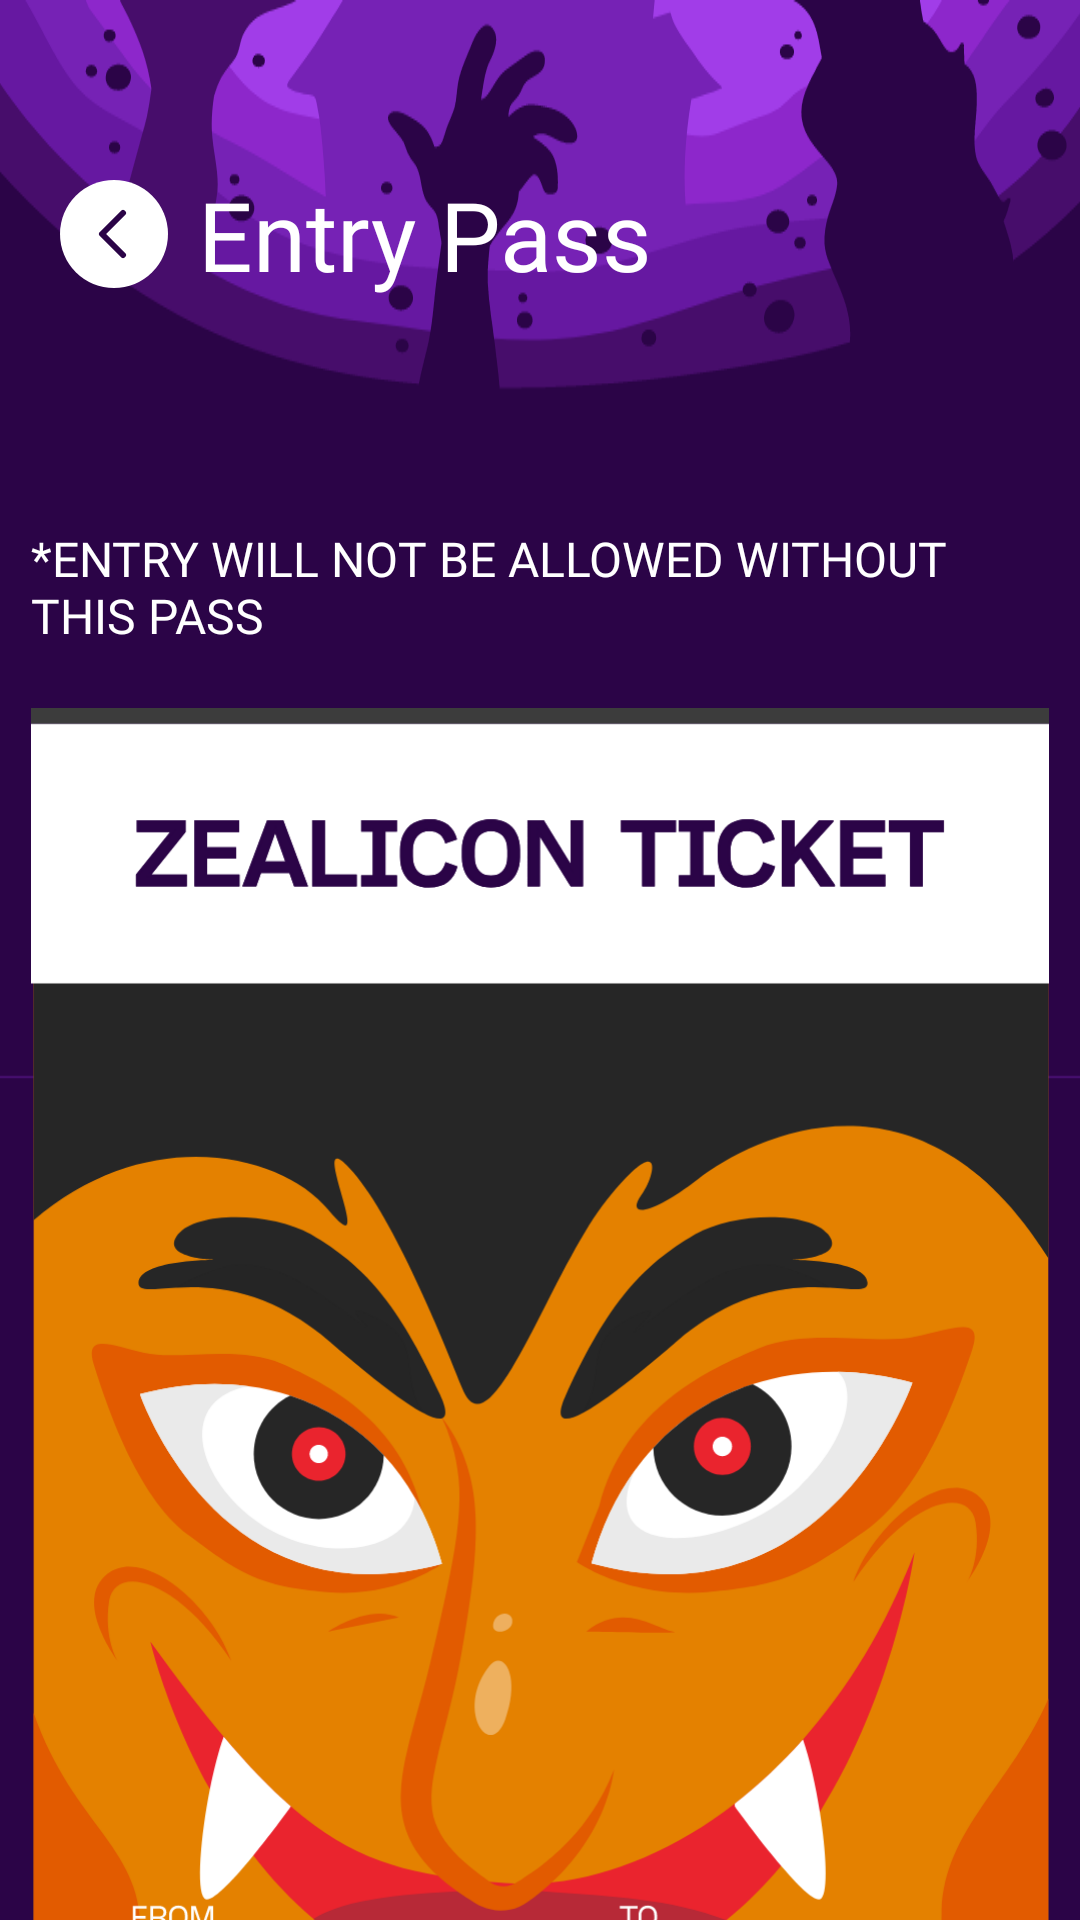

Point at icon controls on the screen. Image size 1080*1920, points as (x=x, y=y).
back: (x=114, y=234)
